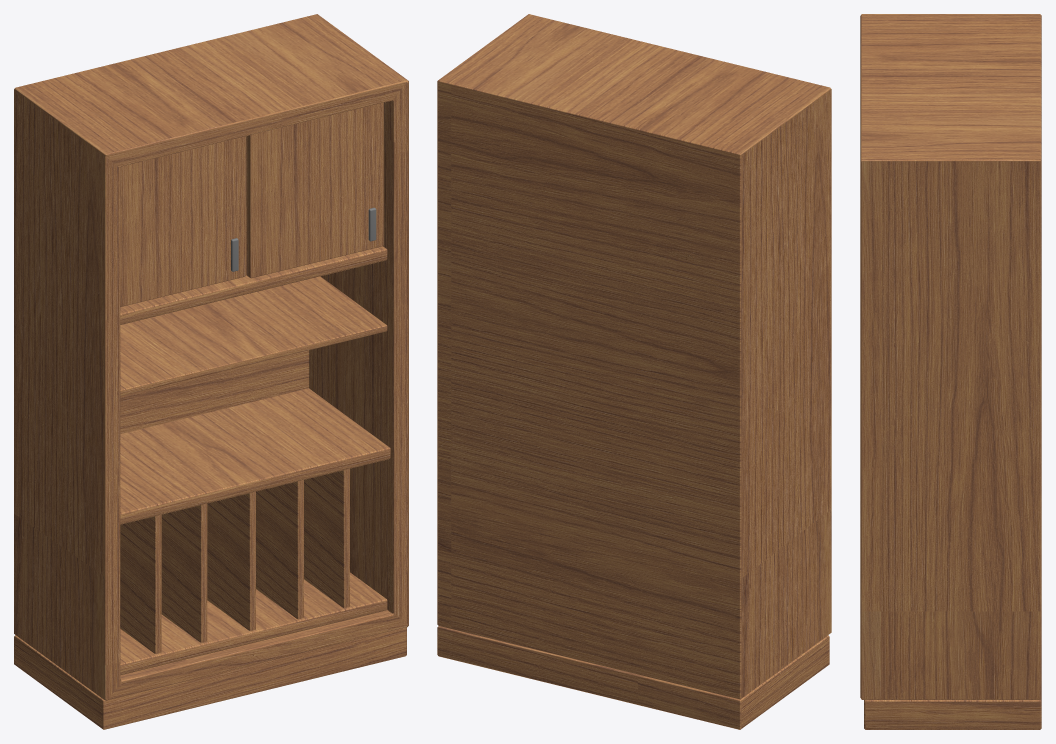
The model's file is SM_shelf_03.fbx.
3 views of the same model, side by side, from view 1: azimuth 30°, elevation 25°; view 2: azimuth 150°, elevation 25°; view 3: azimuth 270°, elevation 25° (orthographic).
Visible parts, largest first — view 1: shelf03; view 2: shelf03; view 3: shelf03.
Part boxes in pixels (<box>): shelf03: <box>14,14,408,729</box>; shelf03: <box>437,14,831,729</box>; shelf03: <box>860,14,1041,729</box>.
Size of the model in its own units: 57.98 by 105 by 30.24.
Materials: 2 (1 with a texture image).
